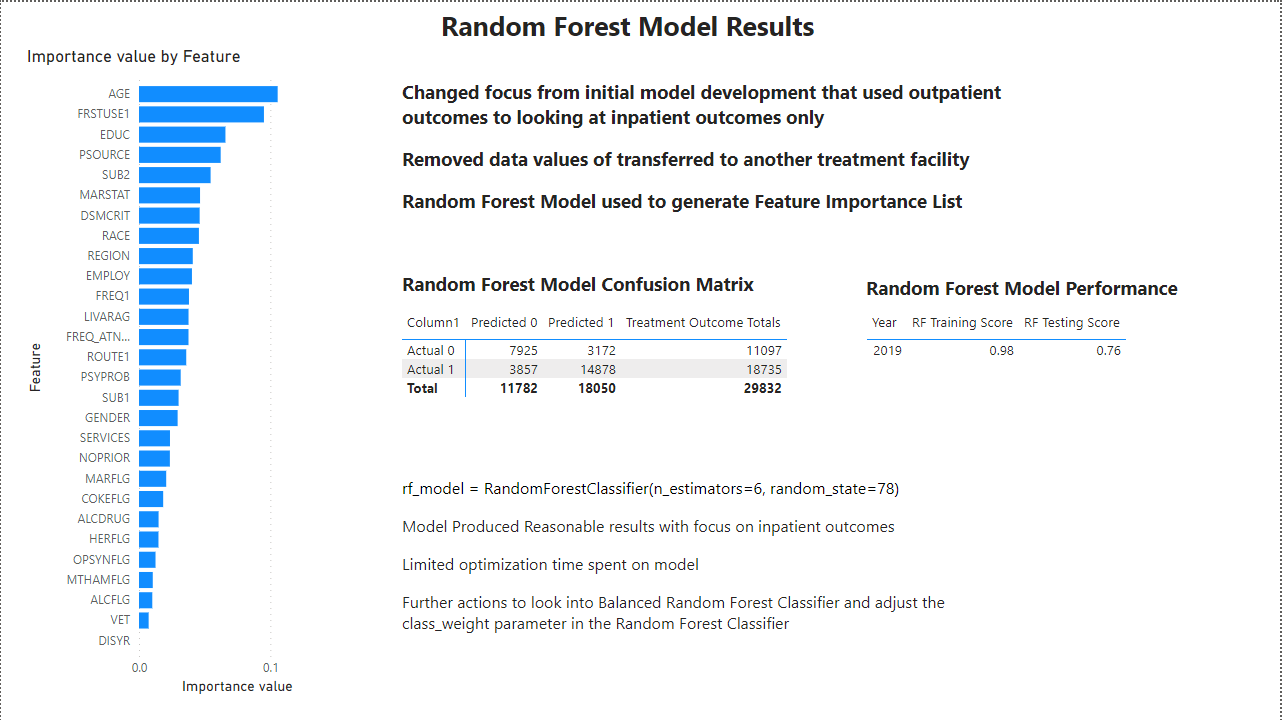

What the dashboard file says about the page in this screenshot:
{"tool":"powerbi","page":{"name":"Page 1","canvas":[1280,720],"ordinal":0},"visuals":[{"type":"clusteredBarChart","fields":{"Category":["teds_2019_rf_model_fi.Feature"],"Y":["Sum(teds_2019_rf_model_fi.Importance value)"]},"box":[21,44,331,653],"z":0},{"type":"pivotTable","fields":{"Rows":["teds_2019_rf_model_cm.Column1"],"Values":["Sum(teds_2019_rf_model_cm.Predicted 0)","Sum(teds_2019_rf_model_cm.Predicted 1)","teds_2019_rf_model_cm.Predicted 0 plus Predicted 1"]},"box":[396,305,414,138],"z":1000},{"type":"textbox","box":[860,268,351,37],"z":2000},{"type":"textbox","box":[396,264,364,41],"z":3000},{"type":"tableEx","fields":{"Values":["teds_rf_model_results.Year","teds_rf_model_results.RF Training Score","teds_rf_model_results.RF Testing Score"]},"box":[860,305,320,150],"z":4000},{"type":"textbox","box":[297,0,659,58],"z":5000},{"type":"textbox","box":[946,0,312,227],"z":6000},{"type":"textbox","box":[396,72,612,160],"z":8000},{"type":"textbox","box":[396,470,612,181],"z":8001}]}

Visuals, with their boxes in screenshot pixels (x1, y1, x2, y2), scaled from the page's 1280x720 canvas onto the 1282x721 screenshot:
clusteredBarChart - teds_2019_rf_model_fi.Feature x Sum(teds_2019_rf_model_fi.Importance value): {"left": 21, "top": 44, "right": 353, "bottom": 698}
pivotTable - teds_2019_rf_model_cm.Column1 x Sum(teds_2019_rf_model_cm.Predicted 0): {"left": 397, "top": 305, "right": 811, "bottom": 444}
textbox: {"left": 861, "top": 268, "right": 1213, "bottom": 305}
textbox: {"left": 397, "top": 264, "right": 761, "bottom": 305}
tableEx - teds_rf_model_results.Year x teds_rf_model_results.RF Training Score: {"left": 861, "top": 305, "right": 1182, "bottom": 456}
textbox: {"left": 297, "top": 0, "right": 957, "bottom": 58}
textbox: {"left": 947, "top": 0, "right": 1260, "bottom": 227}
textbox: {"left": 397, "top": 72, "right": 1010, "bottom": 232}
textbox: {"left": 397, "top": 471, "right": 1010, "bottom": 652}
